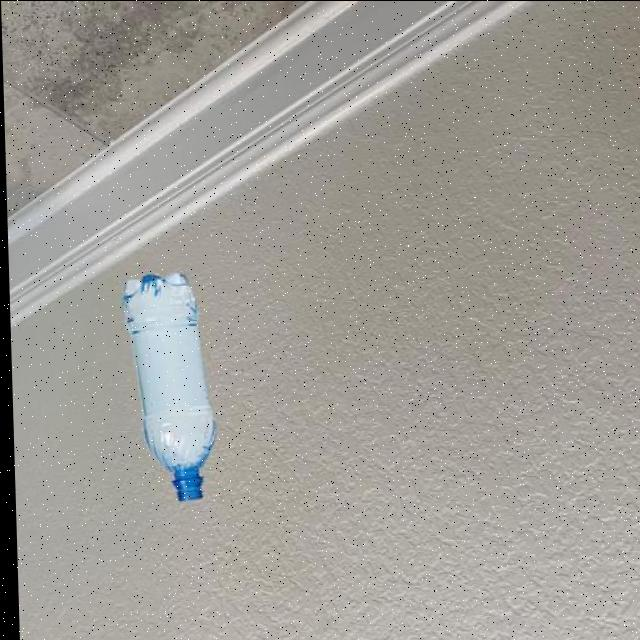bottle: (119, 271, 218, 504)
